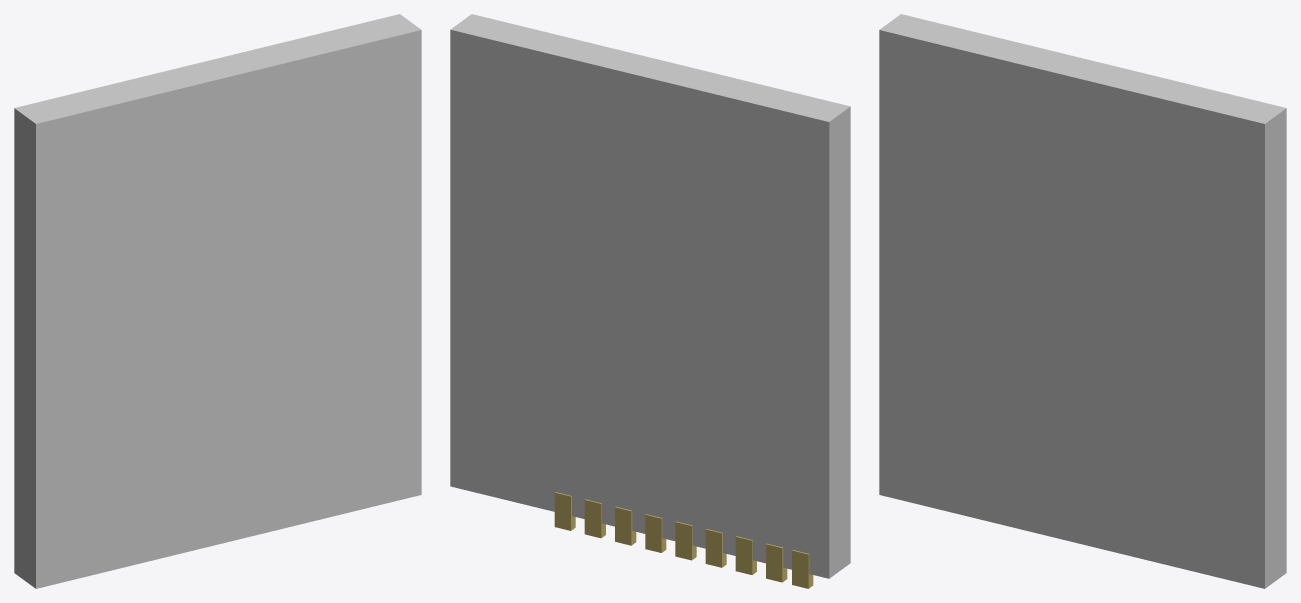
File: microsd_hc.glb
3 renders of one model, left to right at view 1: azimuth 30°, elevation 25°; view 2: azimuth 150°, elevation 25°; view 3: azimuth 330°, elevation 25°, orthographic.
Visible parts, largest first — view 1: world; view 2: world; view 3: world.
Boxes of the visible parts, box(x1,y1,x2,y2) form: world: box(14, 14, 421, 588); world: box(450, 14, 850, 588); world: box(879, 14, 1286, 588).
Size of the model in its own units: 13.8 by 16.4 by 1.4.
